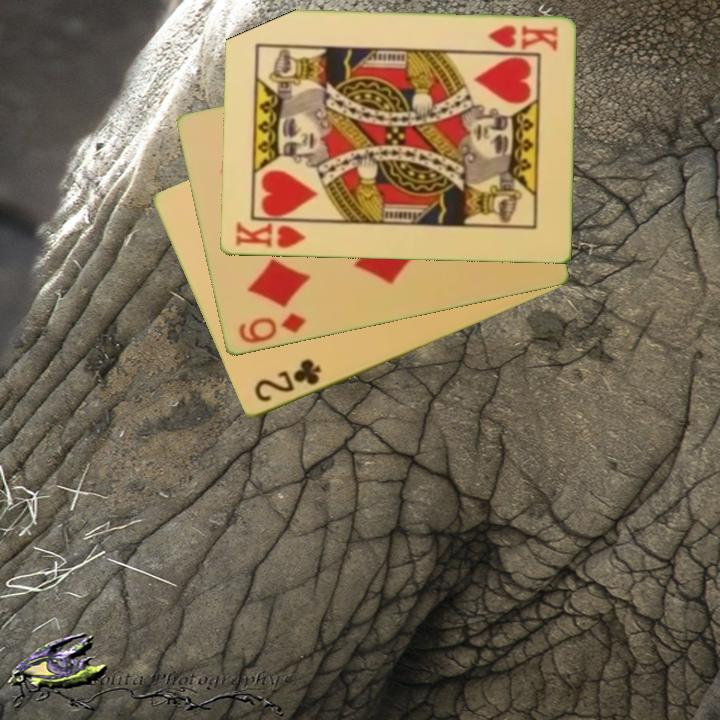2c: (250, 356, 324, 406)
6d: (234, 310, 309, 347)
Kh: (231, 217, 314, 251), (484, 22, 560, 54)
